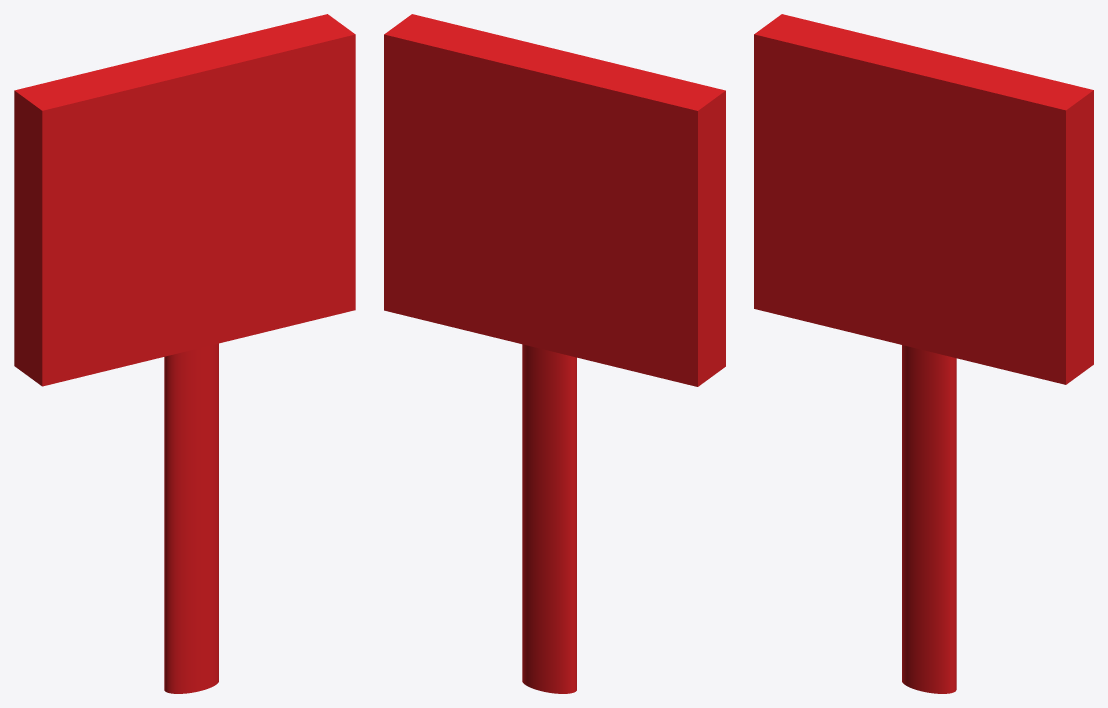
Rendered from tabela.fbx.
3 views of the same model, side by side, from view 1: azimuth 30°, elevation 25°; view 2: azimuth 150°, elevation 25°; view 3: azimuth 330°, elevation 25° (orthographic).
Visible parts, largest first — view 1: root (×2); view 2: root (×2); view 3: root (×2).
Part boxes in pixels (bbox=[...]): root (×2): bbox=[14, 14, 355, 693]; root (×2): bbox=[384, 14, 725, 693]; root (×2): bbox=[754, 14, 1093, 693].
Size of the model in its own units: 0.3797 by 0.7225 by 0.0586.
Materials: 2 (2 with a texture image).
